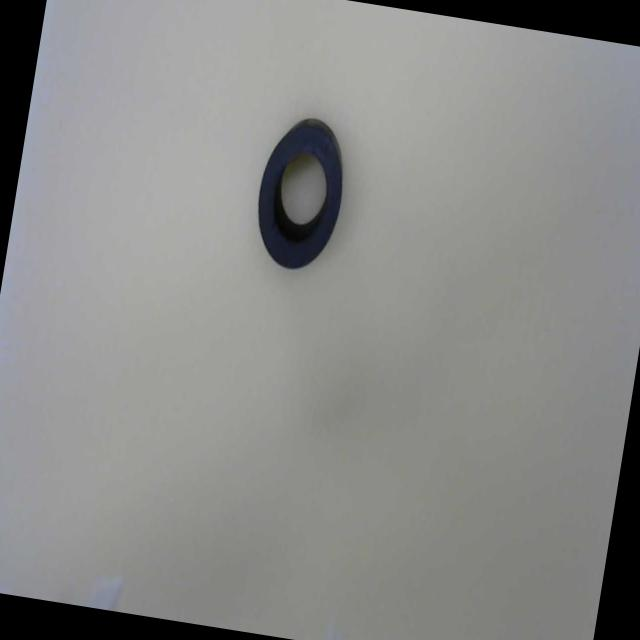ring: (248, 122, 350, 275)
